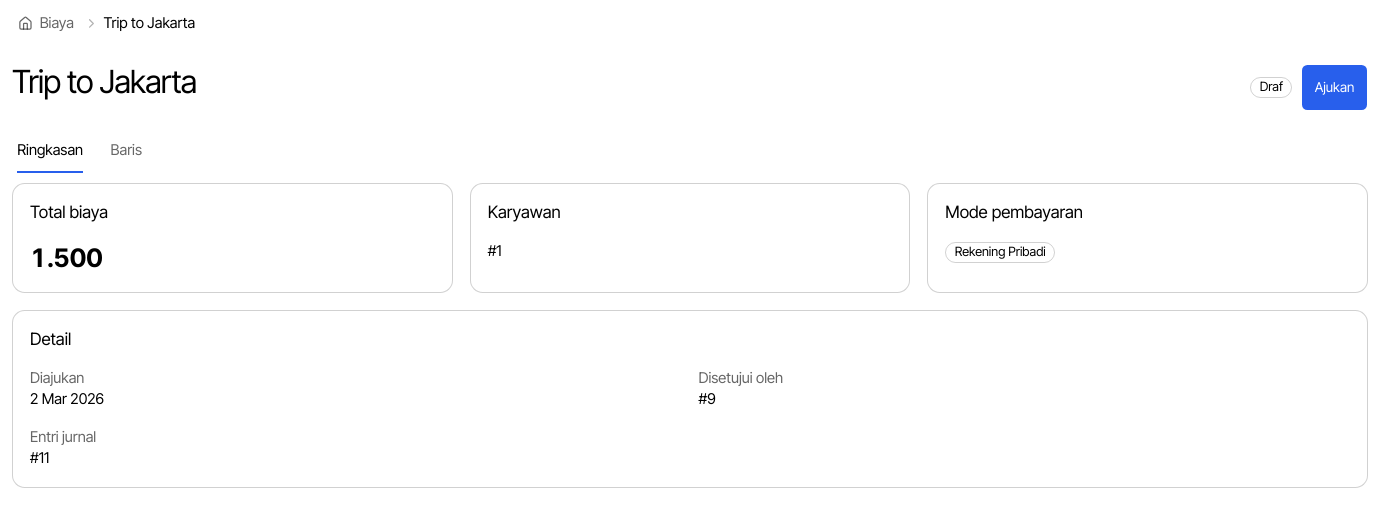
Scenario: ExpenseDetail branches › renders lines with fallbacks
The image size is (1378, 505).
Expected: the text "#9" is shown, [698,390,716,408]
Expected: the text "#11" is shown, [30,449,49,467]
Step 1. Click the tab "Baris" → (126, 151), box [110,128,143,174]
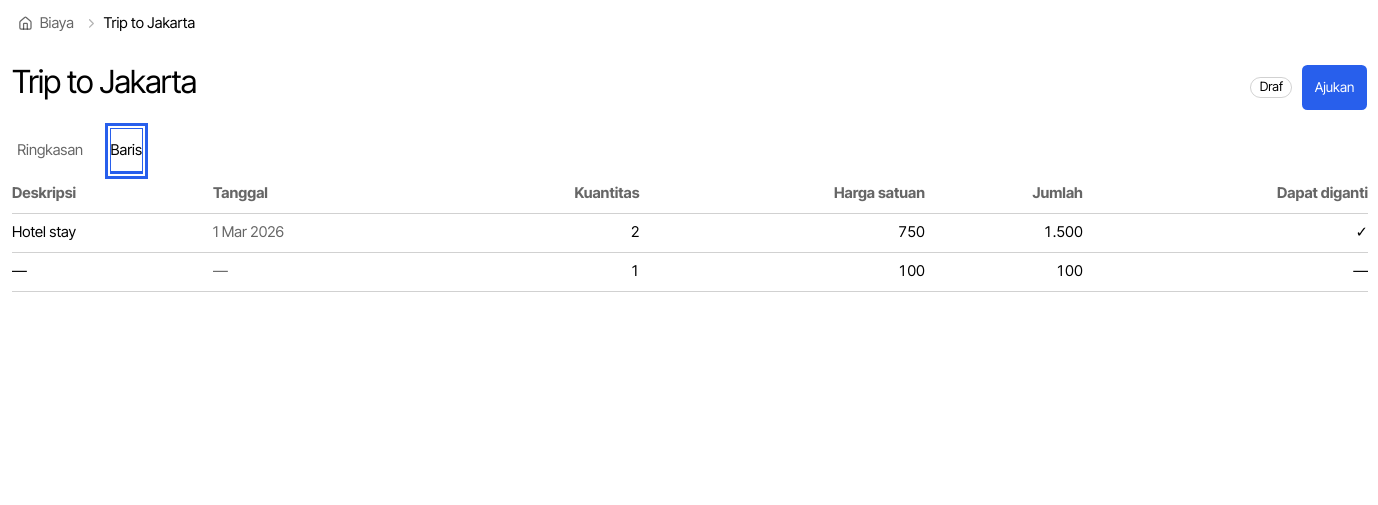
Now the text "Hotel stay" is shown, box [12,213,213,252]
Now the text "✓" is shown, box [1083,213,1368,252]
Now the 1st text "—" is shown, box [12,252,213,292]
